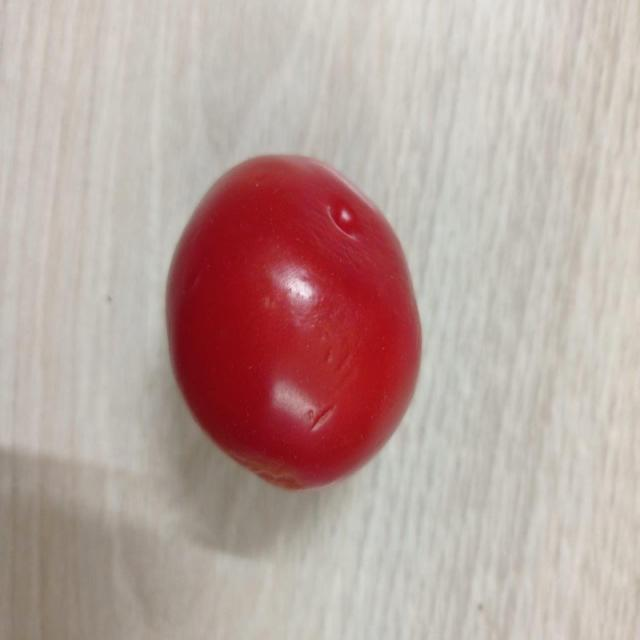Tomato: (163, 152, 425, 492)
